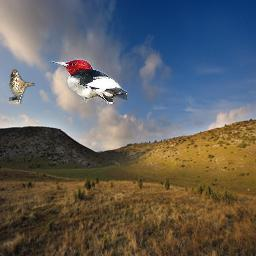Sparrow: (9, 70, 35, 105)
Woodpecker: (49, 58, 127, 104)
